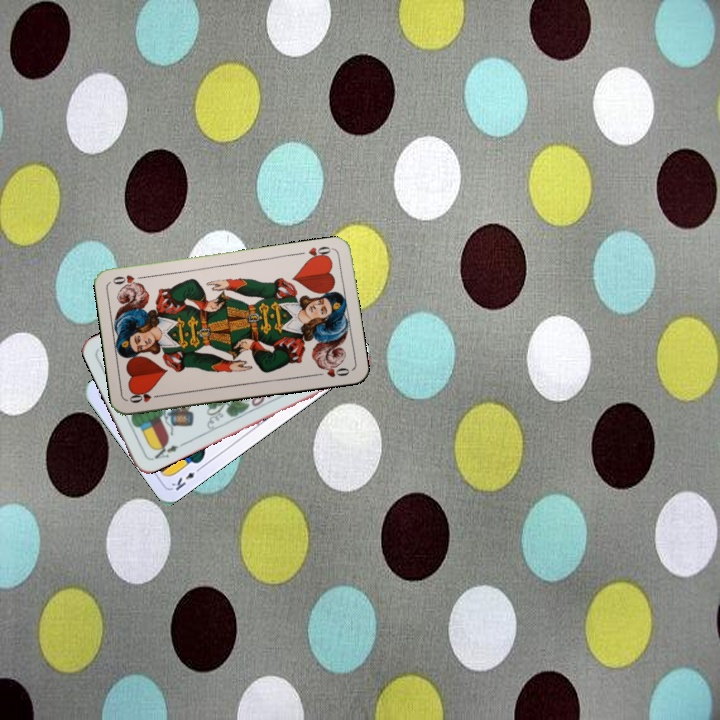EA: (147, 439, 185, 463)
EK: (167, 462, 205, 493)
HO: (125, 387, 165, 406), (303, 242, 335, 263)
